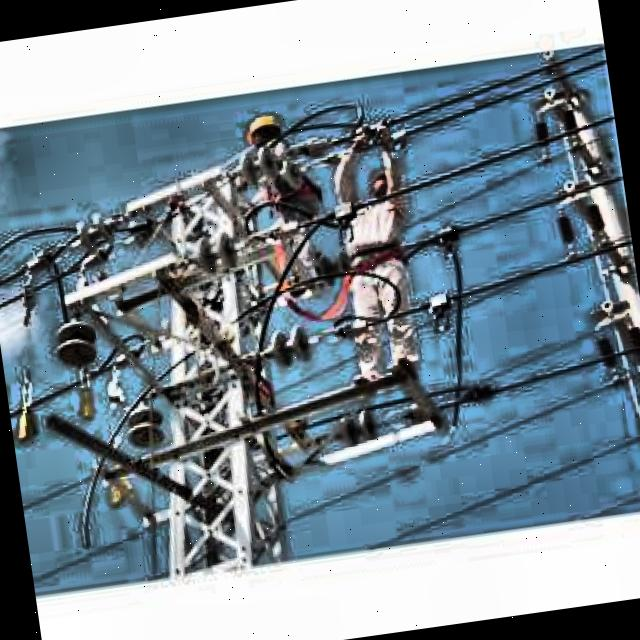helmet: (242, 107, 292, 158)
